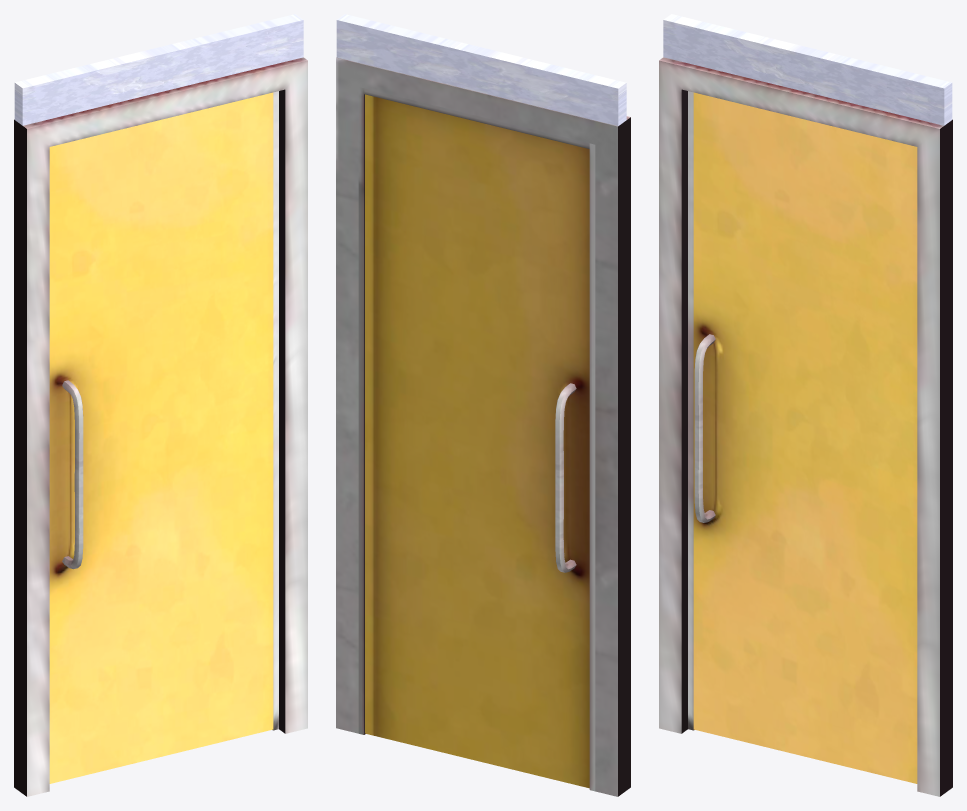
The picture shows the model from 3 angles, left to right: view 1: azimuth 30°, elevation 25°; view 2: azimuth 150°, elevation 25°; view 3: azimuth 330°, elevation 25°; orthographic projection.
Parts seen in each view (by area): view 1: Door.002, Door.001; view 2: Door.002, Door.001; view 3: Door.002, Door.001.
Boxes of the visible parts, x1,y1,x2,y2 form: Door.002: [49, 92, 273, 783]; Door.001: [14, 14, 307, 796]; Door.002: [365, 94, 589, 788]; Door.001: [336, 14, 630, 796]; Door.002: [693, 92, 917, 783]; Door.001: [659, 14, 952, 796].
Size of what is drawn, in the model's own units: 2 by 4.8 by 0.44.
1 material, 1 textured.
